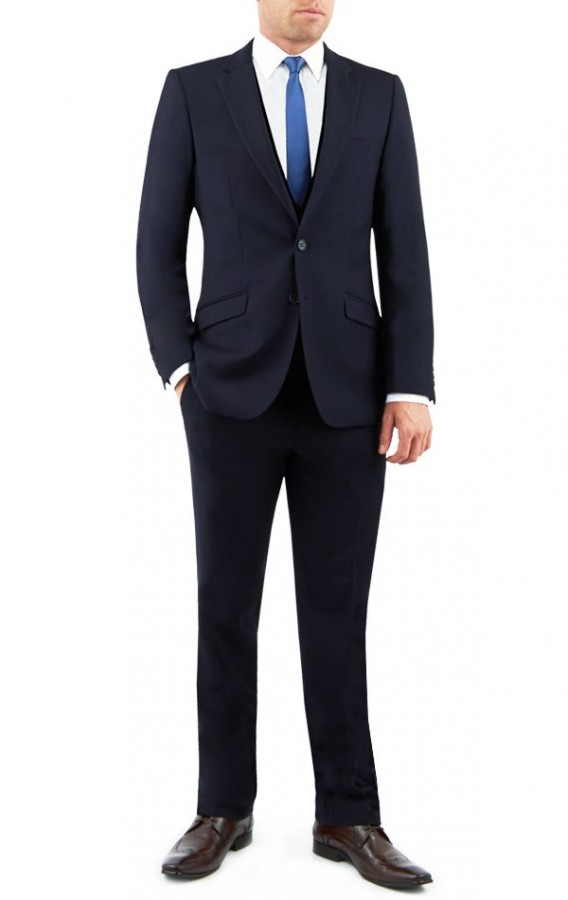F_M_suit jacket: (131, 41, 447, 406)
F_dress pants: (171, 358, 393, 814)
F_dress shoes: (306, 803, 440, 890), (157, 804, 257, 884)
F_tie: (274, 50, 322, 196)
